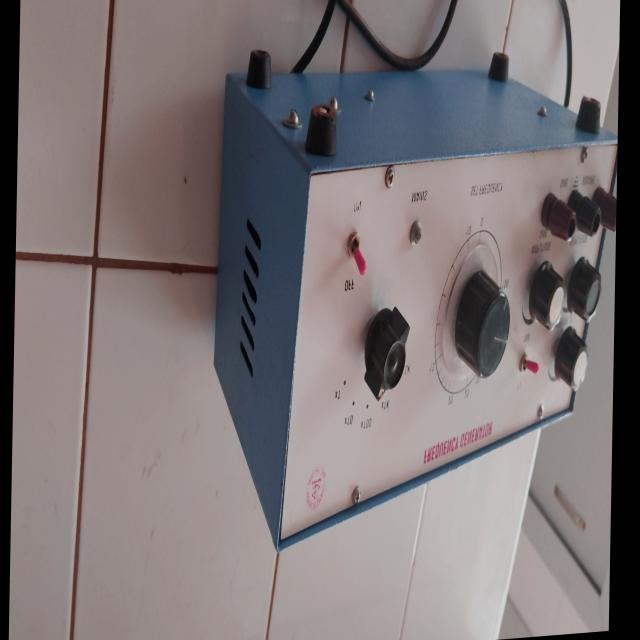Analog Frequency Generator: (264, 61, 618, 534)
